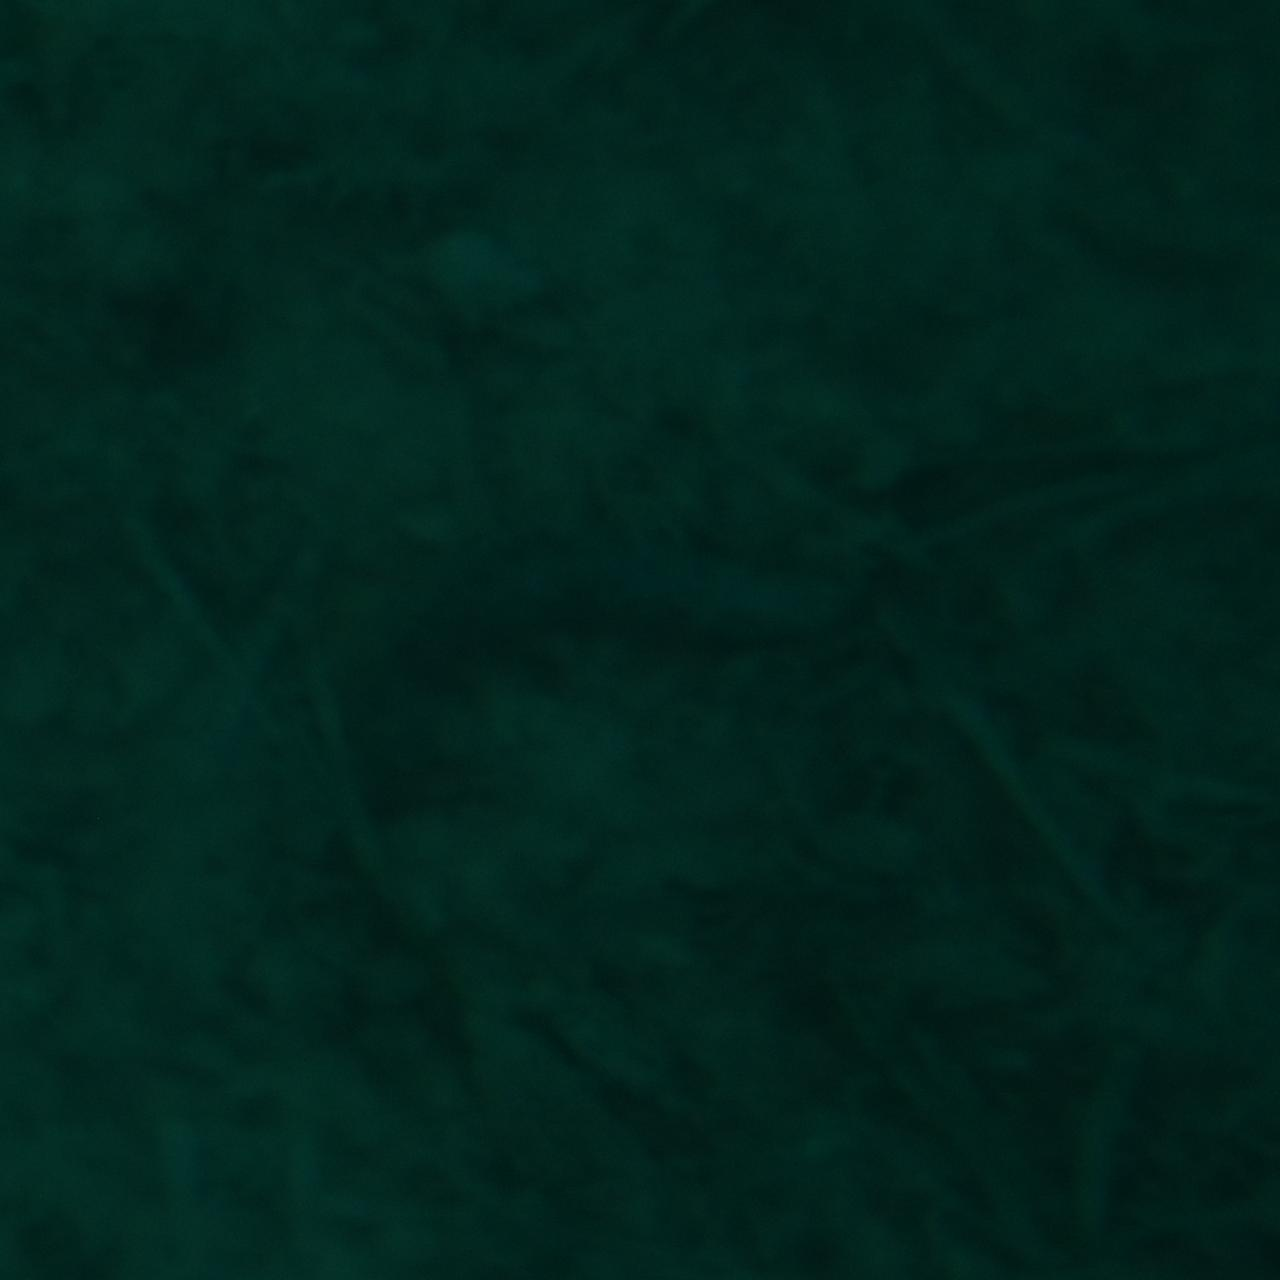Holothuria tubulosa: (385, 535, 895, 745)
